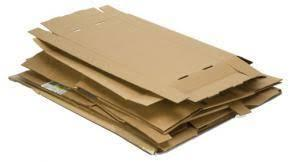Cardboard: (13, 9, 292, 162)
